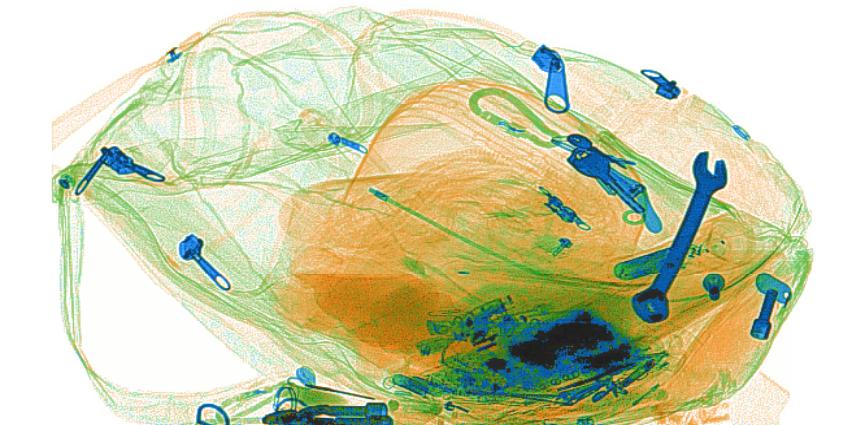battery: (612, 247, 682, 282), (389, 373, 446, 399)
